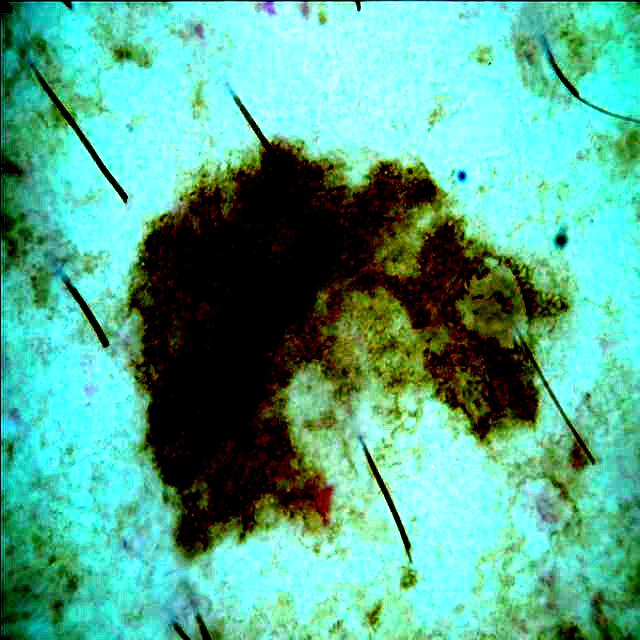MEL: (131, 152, 559, 550)
